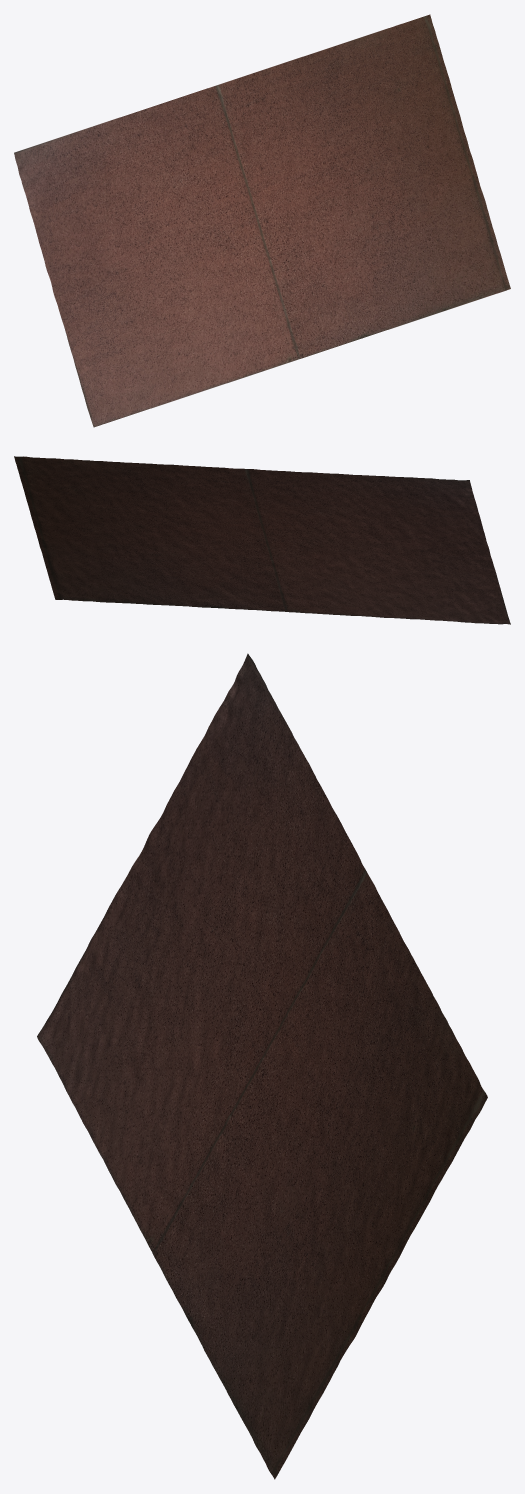
File: lantai kamar fix.fbx
3 views of the same model, one above another, from view 1: azimuth 30°, elevation 25°; view 2: azimuth 150°, elevation 25°; view 3: azimuth 270°, elevation 25° (orthographic). The views are drawn at different scales.
Visible parts, largest first — view 1: Model; view 2: Model; view 3: Model.
Part boxes in pixels (bbox=[...]): Model: bbox=[14, 14, 510, 427]; Model: bbox=[14, 456, 510, 624]; Model: bbox=[37, 653, 487, 1479].
Size of the model in its own units: 8.61 by 4.33 by 4.13.
